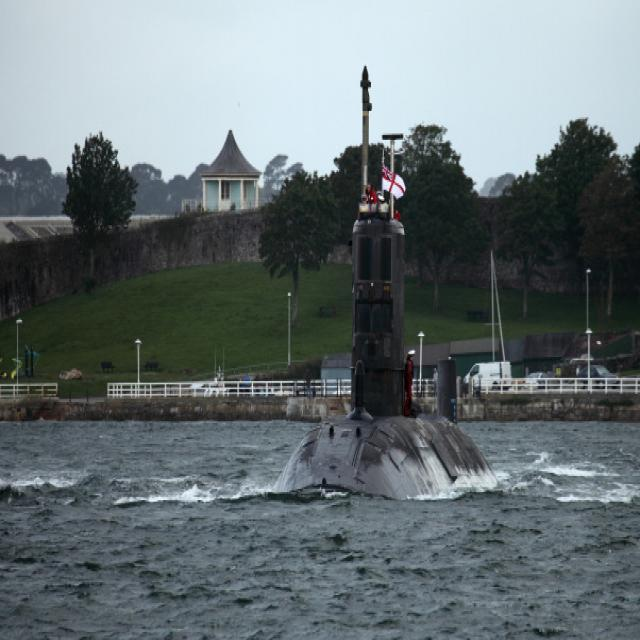submarine: (248, 38, 527, 506)
